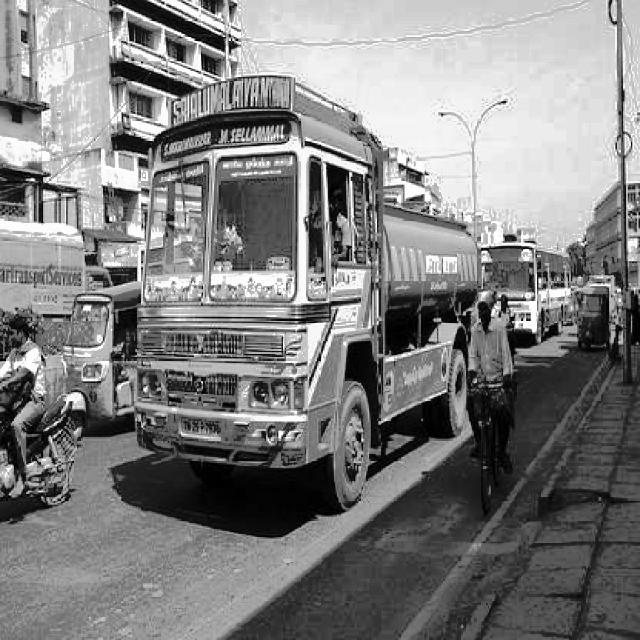HCV: (124, 77, 486, 461)
